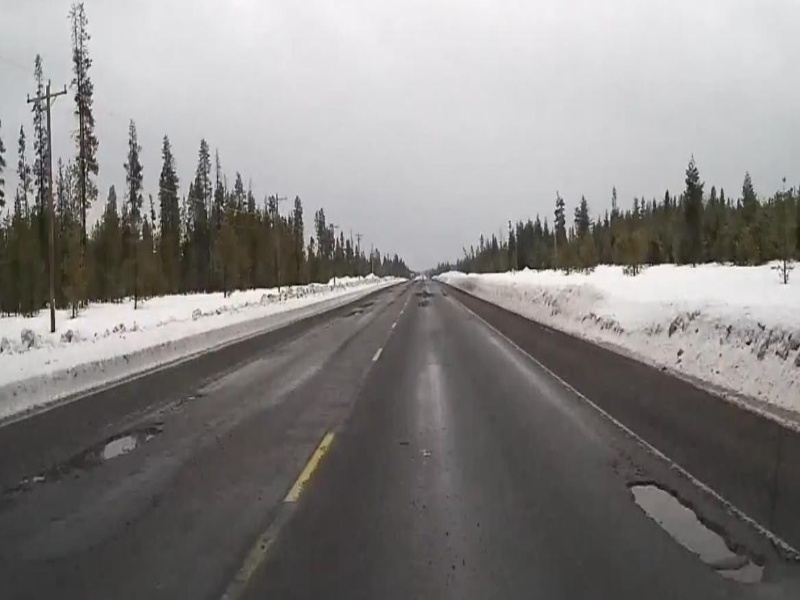pothole: (620, 473, 769, 587), (76, 426, 166, 467)
